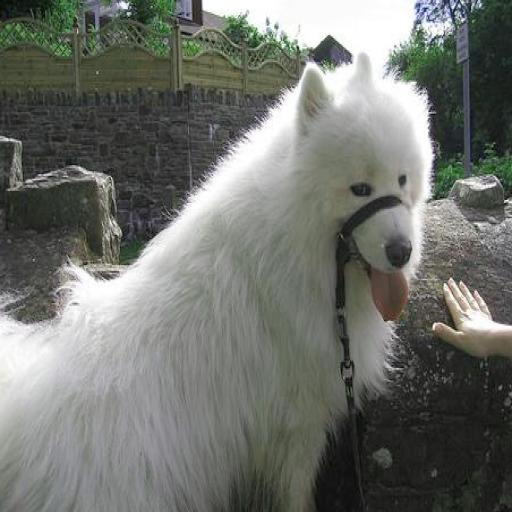dog_face: (287, 48, 440, 325)
